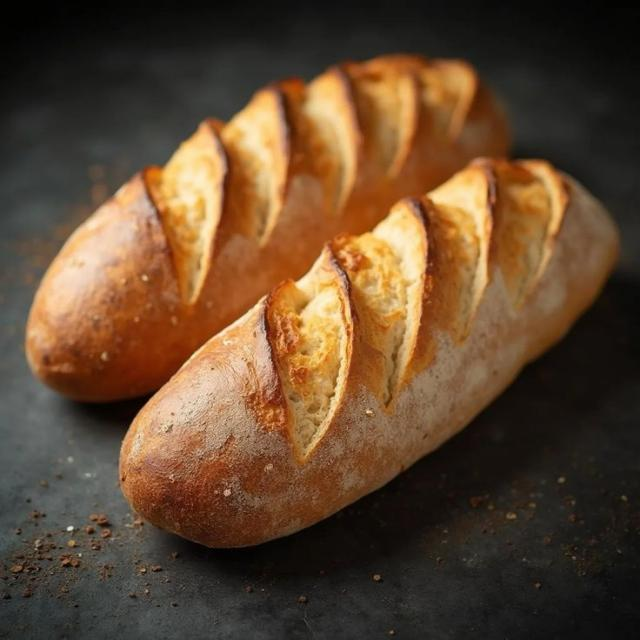bread: (120, 160, 618, 546), (27, 56, 507, 401)
